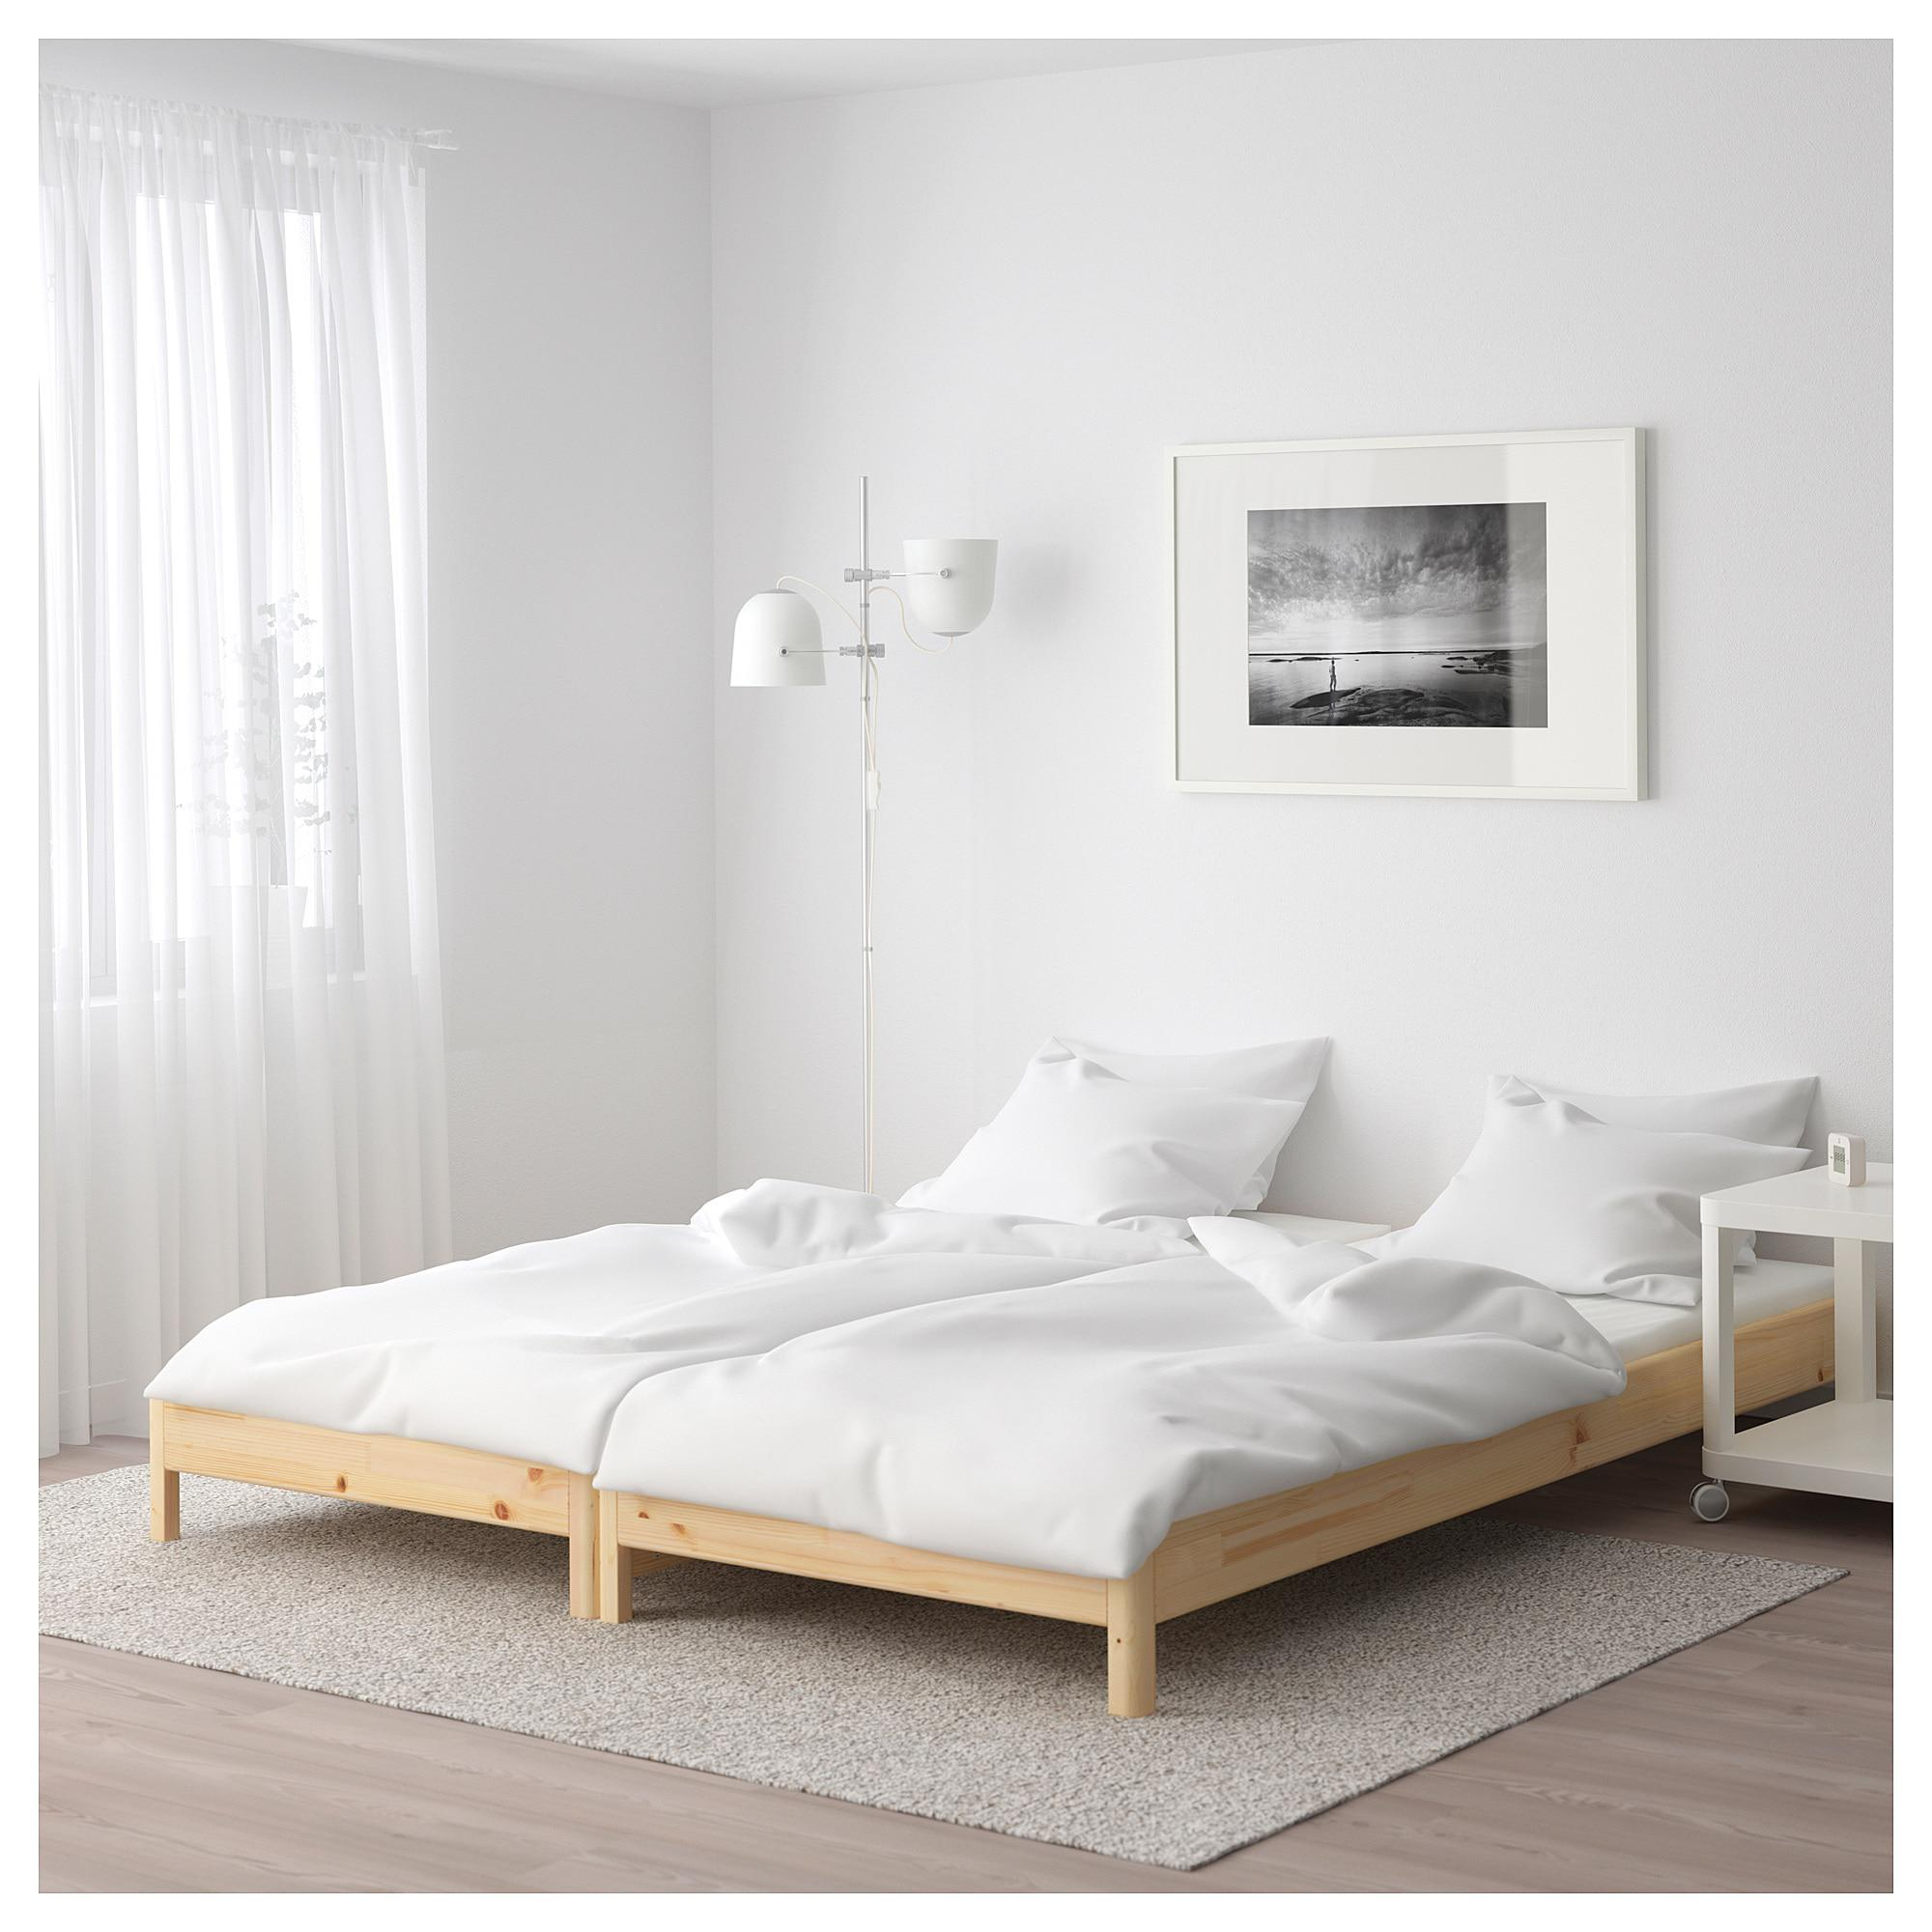bed: (129, 1033, 1865, 1730)
